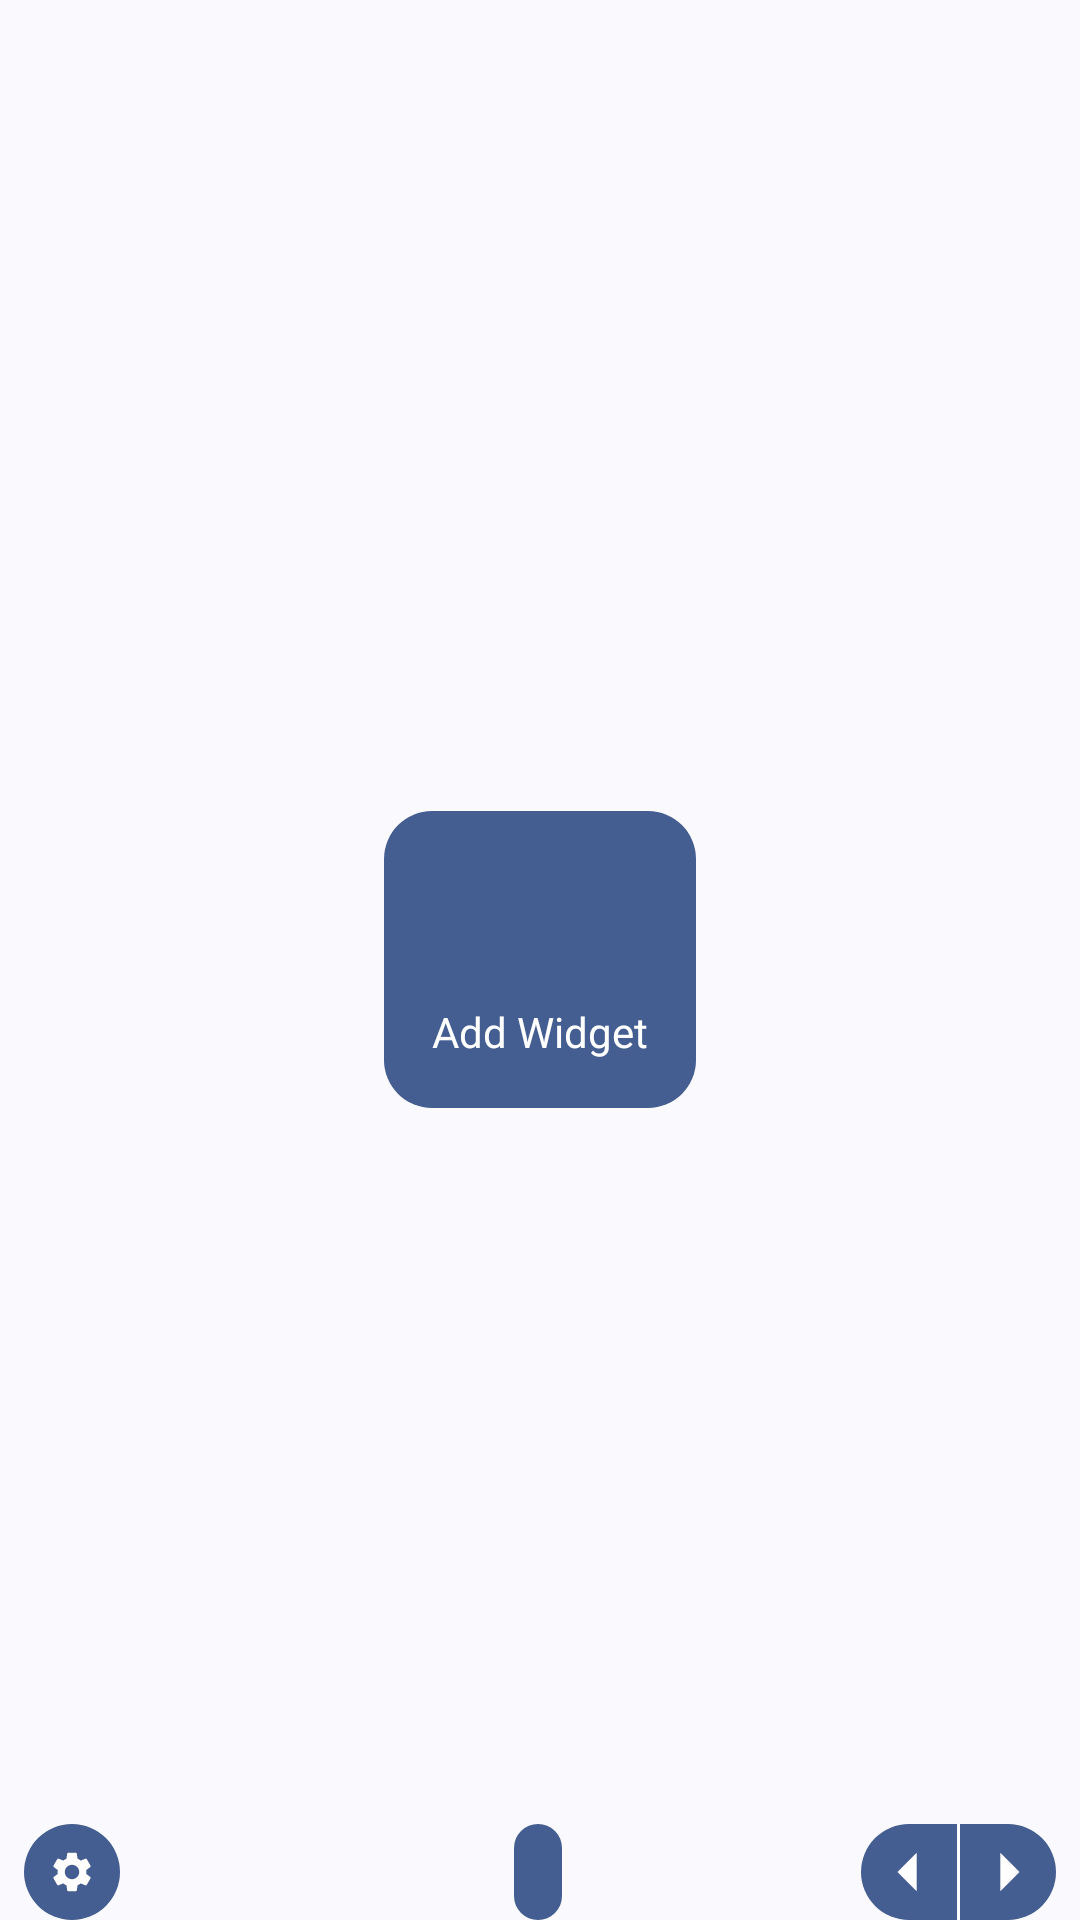

Icons on this 1080*1920 Android screen, each with the point to tap as [x,y]:
settings: [72,1872]
